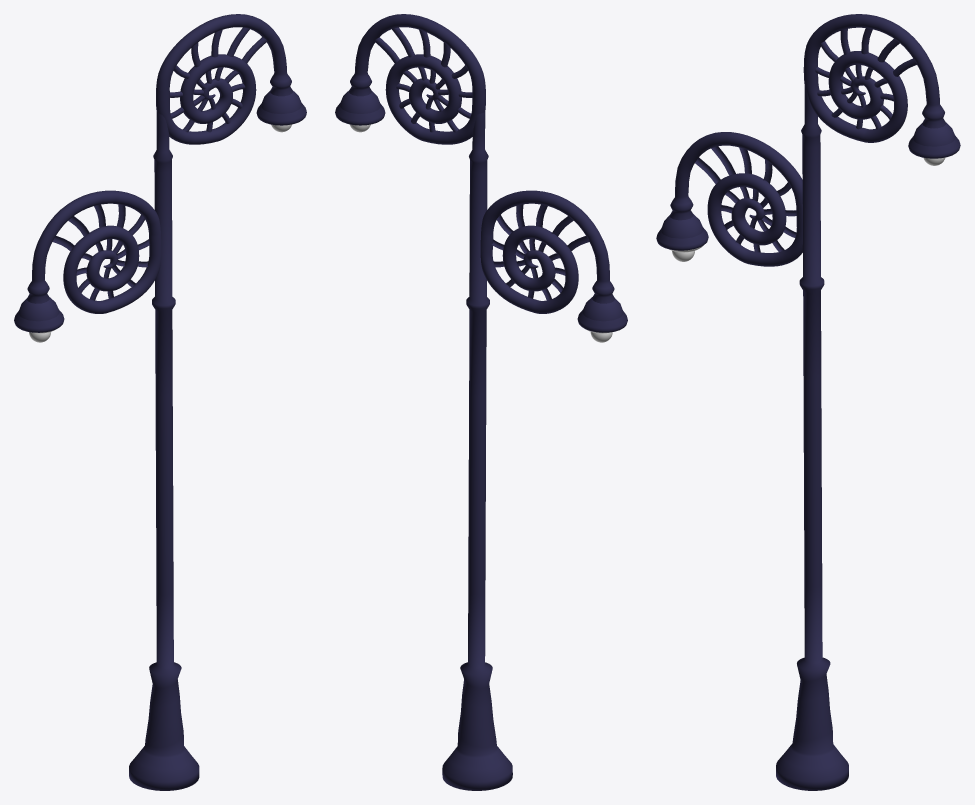
Rendered from FarolHollow.obj.
3 renders of one model, left to right at view 1: azimuth 30°, elevation 25°; view 2: azimuth 150°, elevation 25°; view 3: azimuth 330°, elevation 25°, orthographic. The views are drawn at different scales.
Parts seen in each view (by area): view 1: Lamp_post_Cylinder; view 2: Lamp_post_Cylinder; view 3: Lamp_post_Cylinder.
Part boxes in pixels (<box>): Lamp_post_Cylinder: <box>14,14,306,790</box>; Lamp_post_Cylinder: <box>335,14,627,790</box>; Lamp_post_Cylinder: <box>656,14,960,790</box>.
Bounding box in the file's own units: 1.78 × 4.43 × 0.3798.
